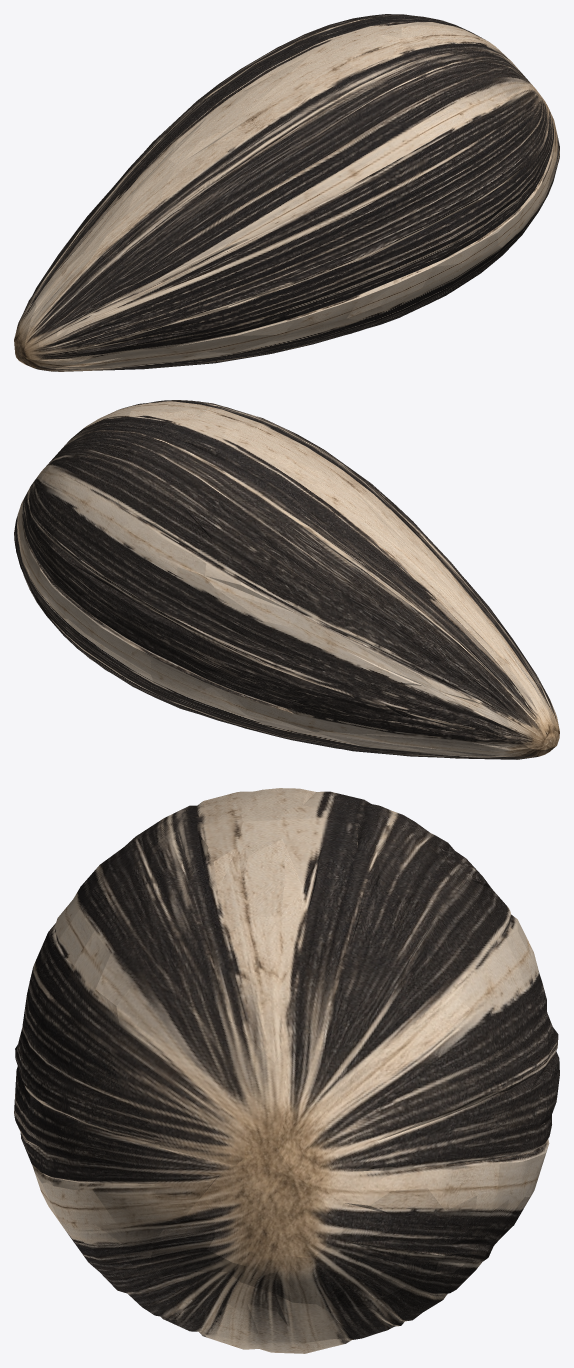
The model's file is sunflower seed.glb.
3 views of the same model, one above another, from view 1: azimuth 30°, elevation 25°; view 2: azimuth 150°, elevation 25°; view 3: azimuth 270°, elevation 25° (orthographic). The views are drawn at different scales.
Parts seen in each view (by area): view 1: output_unwrapped; view 2: output_unwrapped; view 3: output_unwrapped.
Boxes of the visible parts, <box> form: output_unwrapped: <box>14,14,559,371</box>; output_unwrapped: <box>14,400,559,759</box>; output_unwrapped: <box>14,788,559,1353</box>.
Bounding box in the file's own units: 1.9 × 0.9524 × 0.9319.
Materials: 1 (1 with a texture image).
